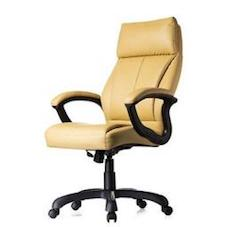chair: (4, 9, 222, 222)
